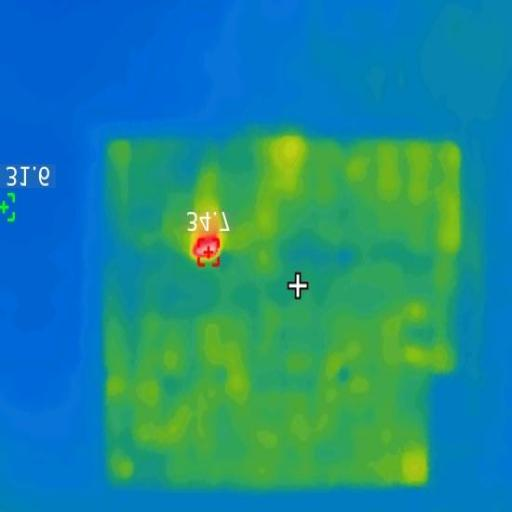hotspot: (188, 224, 228, 264)
